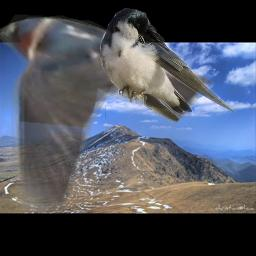Swallow: (0, 8, 214, 211), (97, 7, 237, 124)
